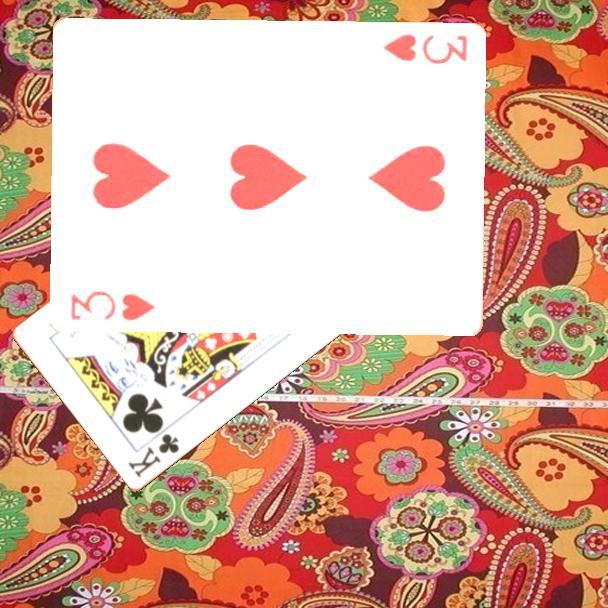c13: (124, 430, 182, 481)
h03: (67, 287, 157, 324), (379, 31, 469, 67)
